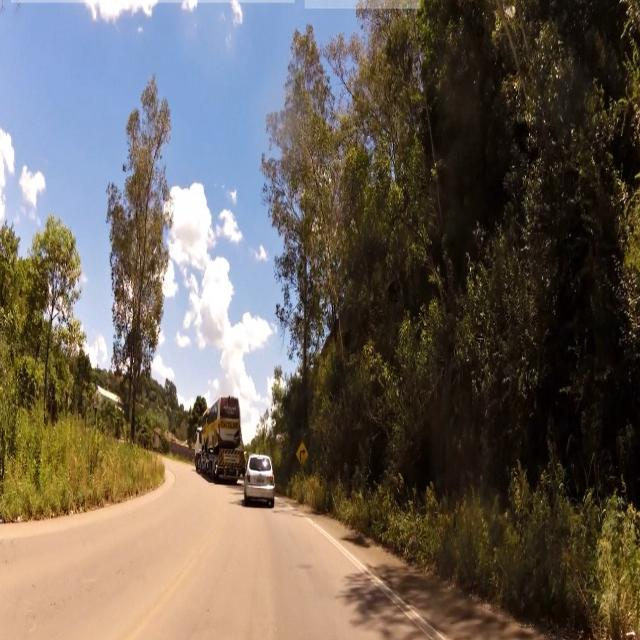A-1b: (294, 438, 311, 466)
